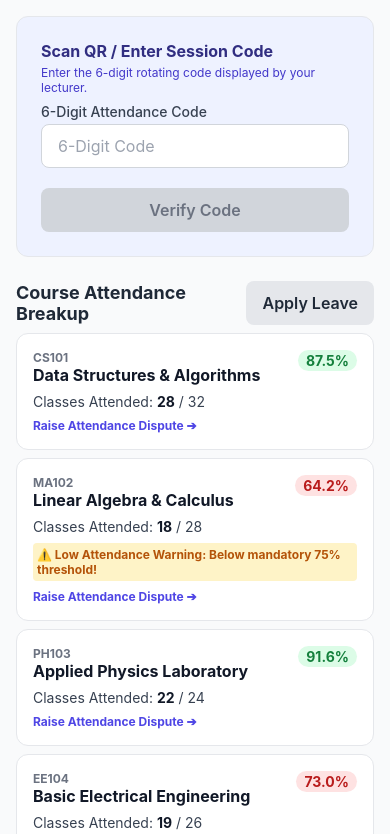
Milestone 4 & 5a Component & Handler Test Suite › AttendanceScreen › shows offline warning message "Connect to mark attendance" when navigator is offline
Step 1. Type "123456" into the field with test id "input-attendance-code" → {"x": 195, "y": 146}, box [41, 124, 349, 168]
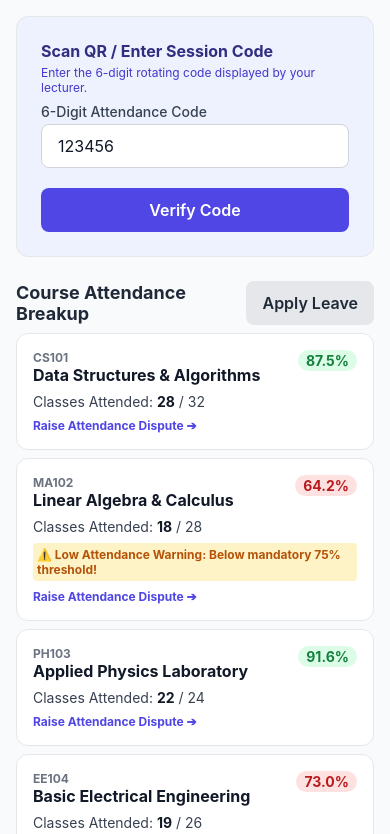
Step 2. Click the button with test id "btn-verify-attendance-code" → {"x": 195, "y": 210}, box [41, 188, 349, 232]
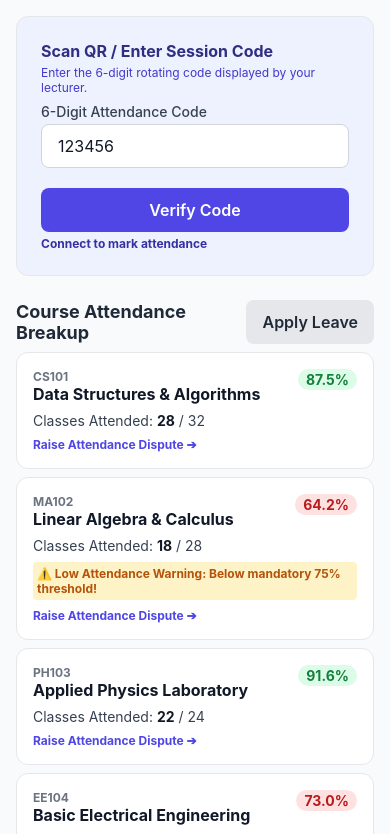
Now the text with test id "attendance-status-notice" reads "Connect to mark attendance", box [41, 236, 207, 251]
